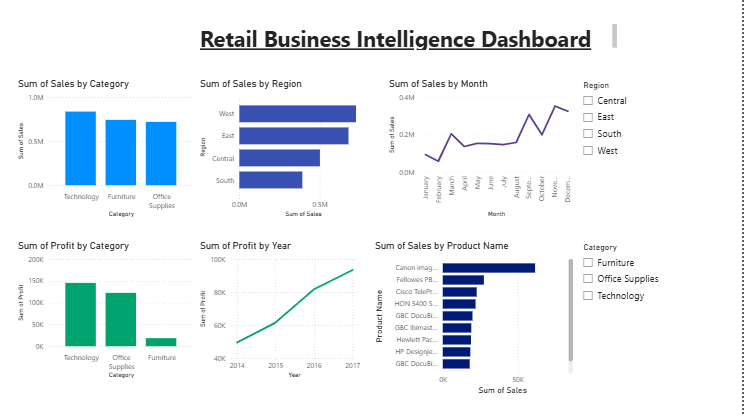

The page's visual inventory and layout, read from the dashboard file:
{"tool":"powerbi","page":{"name":"Page 1","canvas":[1280,720],"ordinal":0},"visuals":[{"type":"clusteredColumnChart","fields":{"Category":["cleaned_superstore.Category"],"Y":["Sum(cleaned_superstore.Sales)"]},"box":[25.9,137.9,313.8,244.8],"z":0},{"type":"clusteredBarChart","fields":{"Category":["cleaned_superstore.Region"],"Y":["Sum(cleaned_superstore.Sales)"]},"box":[339.7,137.9,313.8,244.8],"z":1},{"type":"lineChart","fields":{"Category":["cleaned_superstore.Order Date.Variation.Date Hierarchy.Month"],"Y":["Sum(cleaned_superstore.Sales)"]},"box":[665.5,137.9,327.6,244.8],"z":2},{"type":"clusteredColumnChart","fields":{"Category":["cleaned_superstore.Category"],"Y":["Sum(cleaned_superstore.Profit)"]},"box":[25.9,417.2,313.8,243.1],"z":3},{"type":"clusteredBarChart","fields":{"Category":["cleaned_superstore.Product Name"],"Y":["Sum(cleaned_superstore.Sales)"]},"box":[641.4,417.2,351.7,272.4],"z":4},{"type":"slicer","fields":{"Values":["cleaned_superstore.Region"]},"box":[993.1,137.9,286.2,244.8],"z":5},{"type":"slicer","fields":{"Values":["cleaned_superstore.Category"]},"box":[993.1,417.2,286.2,272.4],"z":6},{"type":"lineChart","fields":{"Category":["cleaned_superstore.Order Date.Variation.Date Hierarchy.Year"],"Y":["Sum(cleaned_superstore.Profit)"]},"box":[339.7,417.2,286.2,243.1],"z":7},{"type":"textbox","box":[339.7,39.7,729.3,55.2],"z":17}]}

Visuals, with their boxes in screenshot pixels (x1, y1, x2, y2), scaled from the page's 1280x720 canvas onto the 744x416 screenshot:
clusteredColumnChart - cleaned_superstore.Category x Sum(cleaned_superstore.Sales): left=15, top=80, right=197, bottom=221
clusteredBarChart - cleaned_superstore.Region x Sum(cleaned_superstore.Sales): left=197, top=80, right=380, bottom=221
lineChart - cleaned_superstore.Order Date.Variation.Date Hierarchy.Month x Sum(cleaned_superstore.Sales): left=387, top=80, right=577, bottom=221
clusteredColumnChart - cleaned_superstore.Category x Sum(cleaned_superstore.Profit): left=15, top=241, right=197, bottom=382
clusteredBarChart - cleaned_superstore.Product Name x Sum(cleaned_superstore.Sales): left=373, top=241, right=577, bottom=398
slicer - cleaned_superstore.Region: left=577, top=80, right=743, bottom=221
slicer - cleaned_superstore.Category: left=577, top=241, right=743, bottom=398
lineChart - cleaned_superstore.Order Date.Variation.Date Hierarchy.Year x Sum(cleaned_superstore.Profit): left=197, top=241, right=364, bottom=382
textbox: left=197, top=23, right=621, bottom=55
